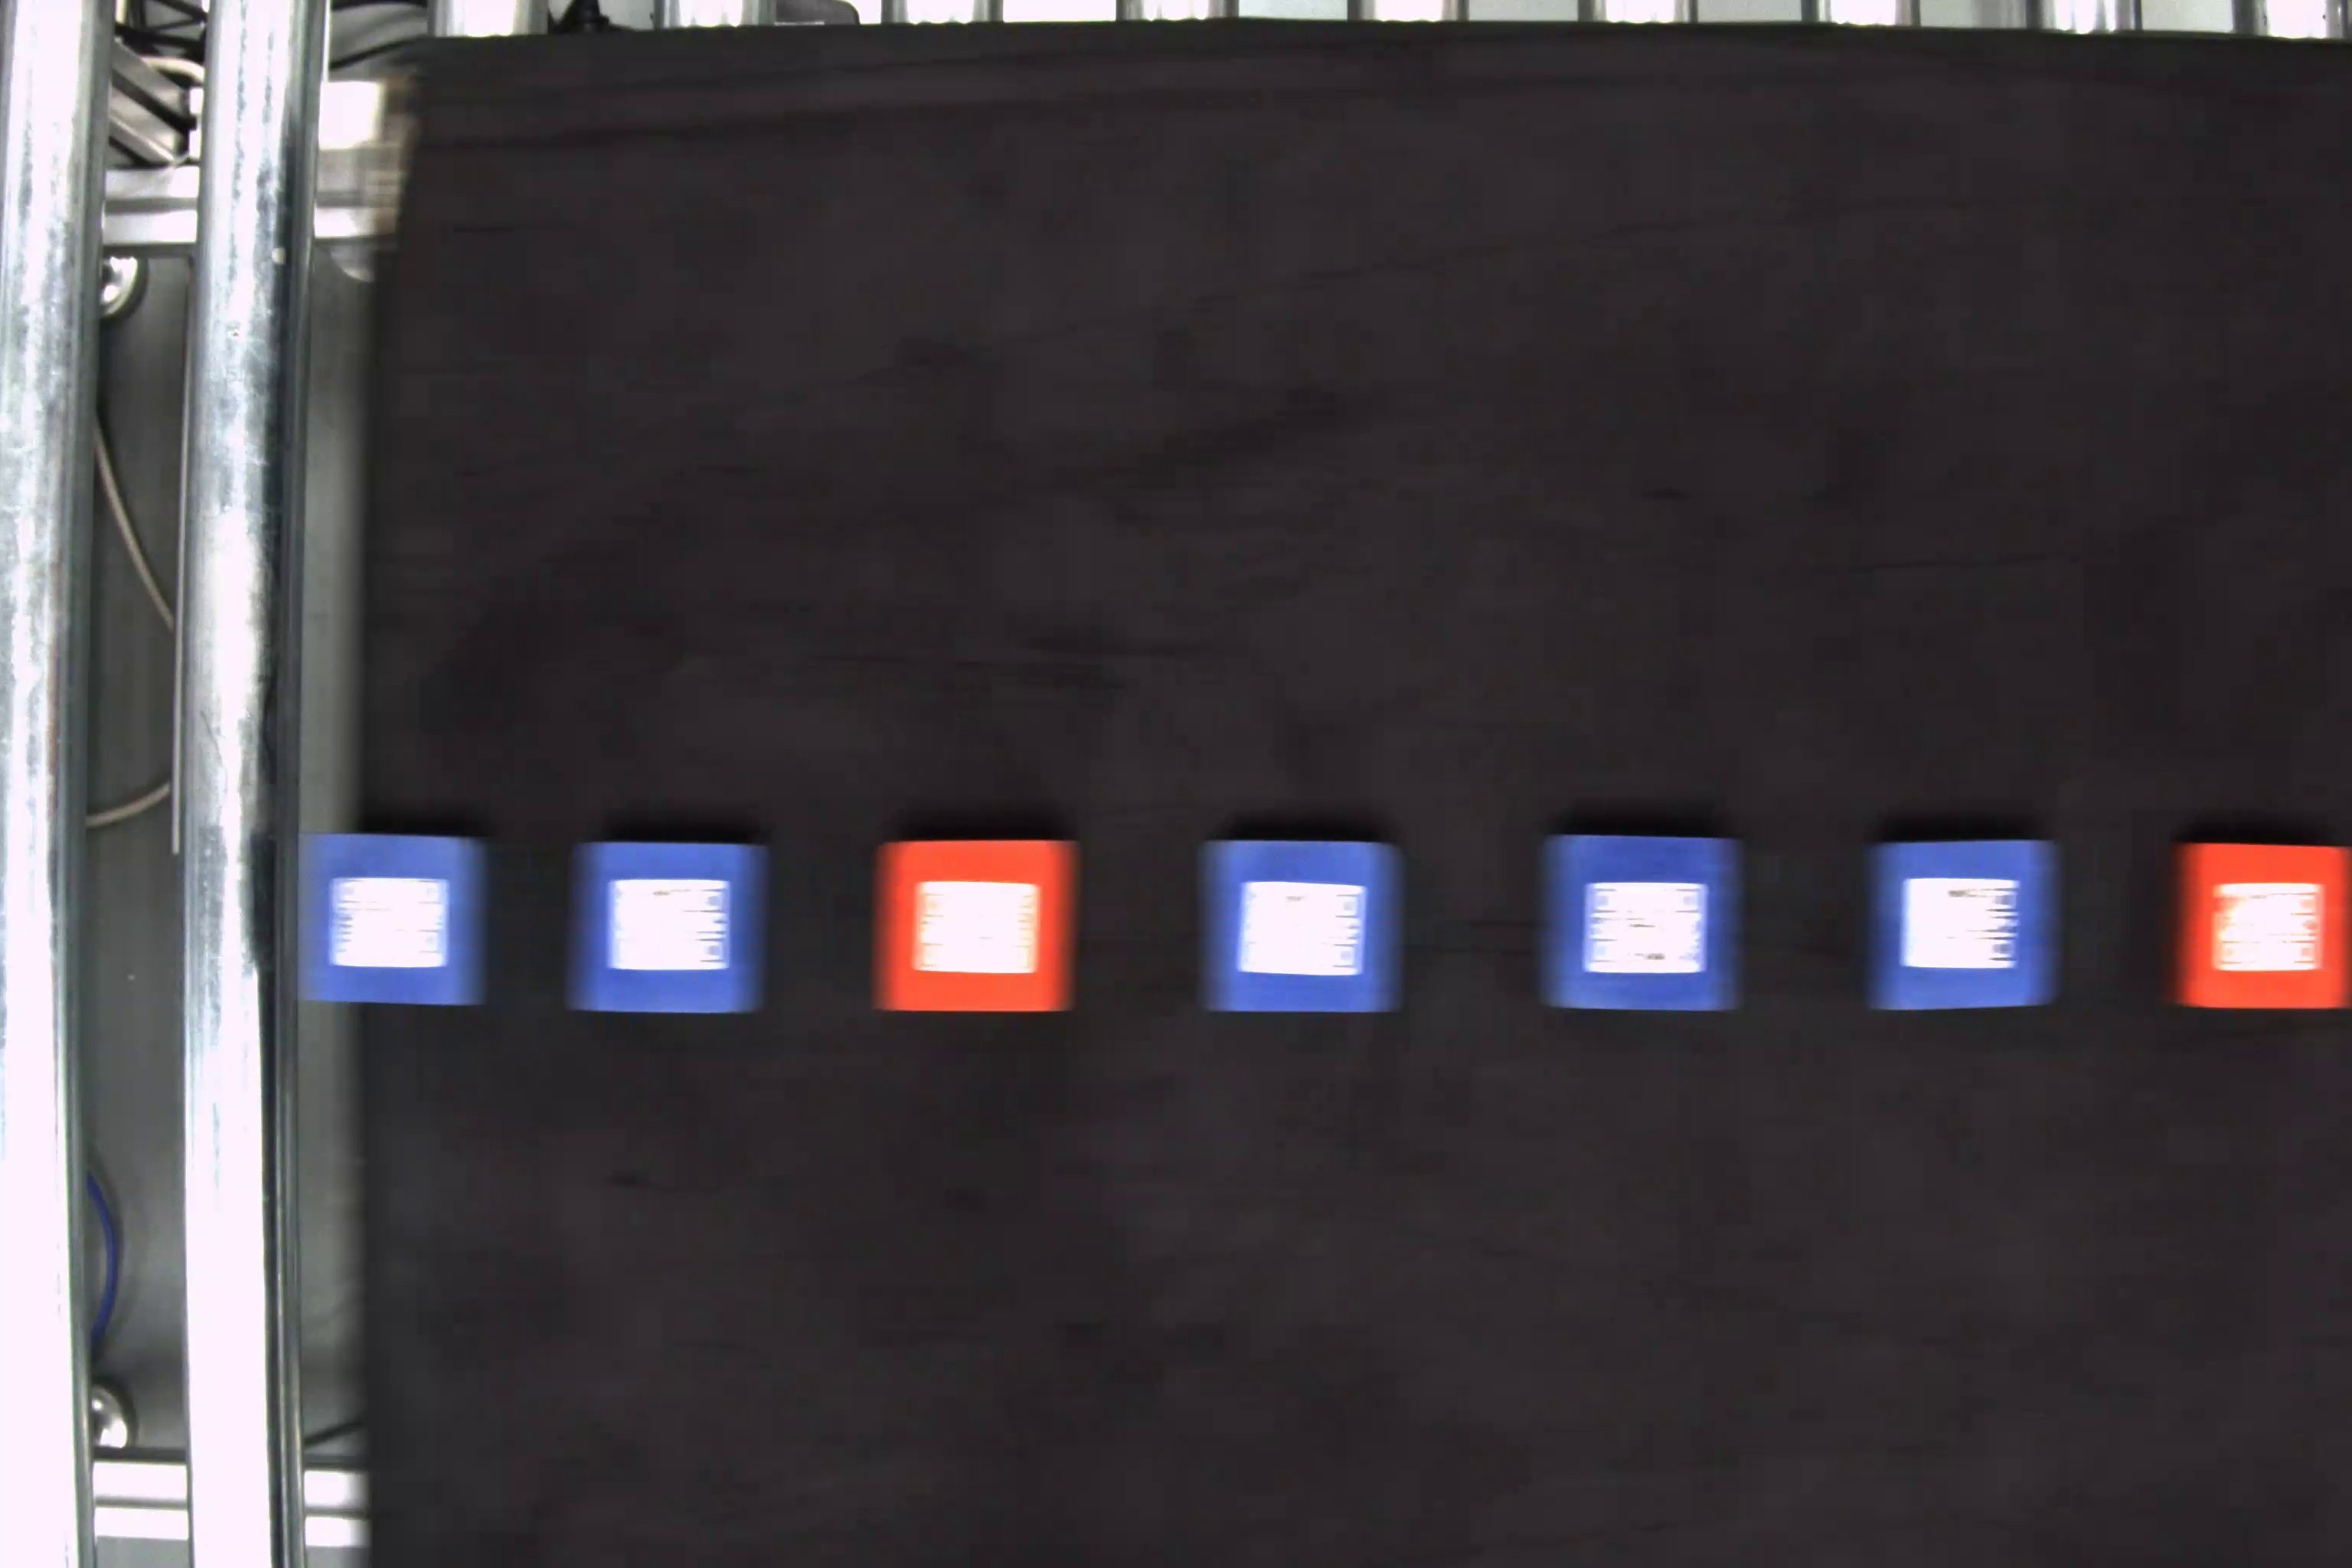wood: (1535, 831, 1743, 1015), (873, 835, 1085, 1013), (567, 836, 772, 1013), (1200, 842, 1410, 1013), (1869, 840, 2068, 1011), (306, 826, 488, 1004), (2173, 836, 2352, 1006)
